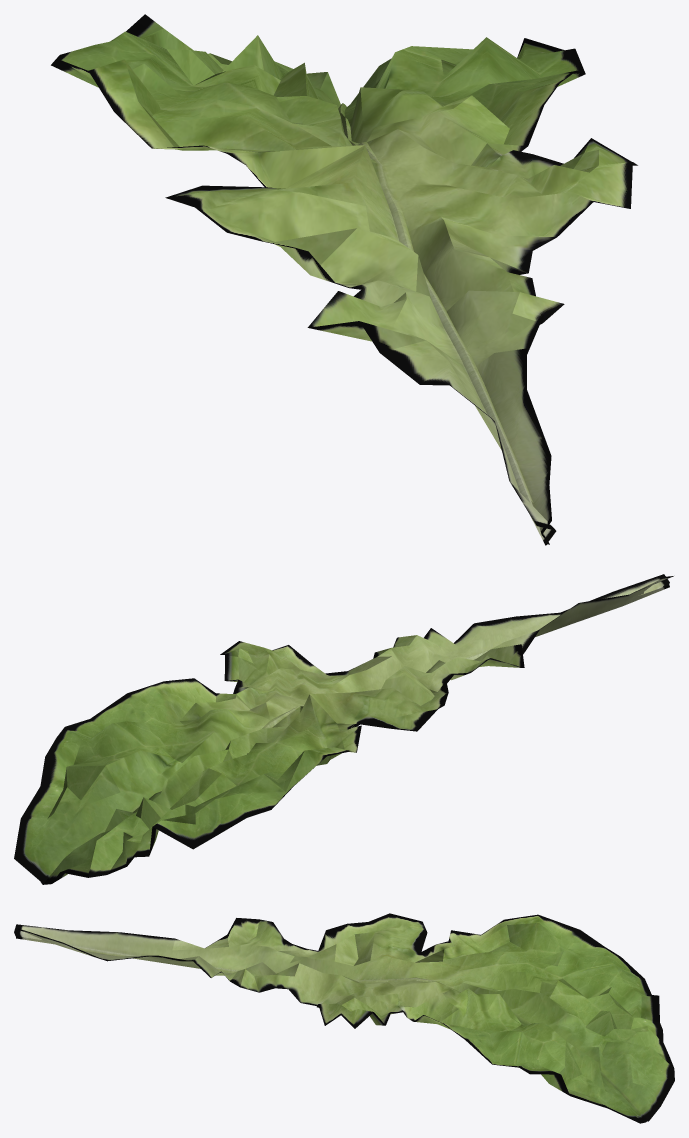
File: Lettuce.fbx
The picture shows the model from 3 angles, top to bottom: view 1: azimuth 30°, elevation 25°; view 2: azimuth 150°, elevation 25°; view 3: azimuth 270°, elevation 25°; orthographic projection. The views are drawn at different scales.
Visible parts, largest first — view 1: lettuce2_1_4.003; view 2: lettuce2_1_4.003; view 3: lettuce2_1_4.003.
Part boxes in pixels (x1,y1,x2,y2): lettuce2_1_4.003: [51, 14, 637, 545]; lettuce2_1_4.003: [14, 574, 673, 884]; lettuce2_1_4.003: [14, 913, 674, 1123].
Size of the model in its own units: 5.68 by 2.32 by 11.93.
